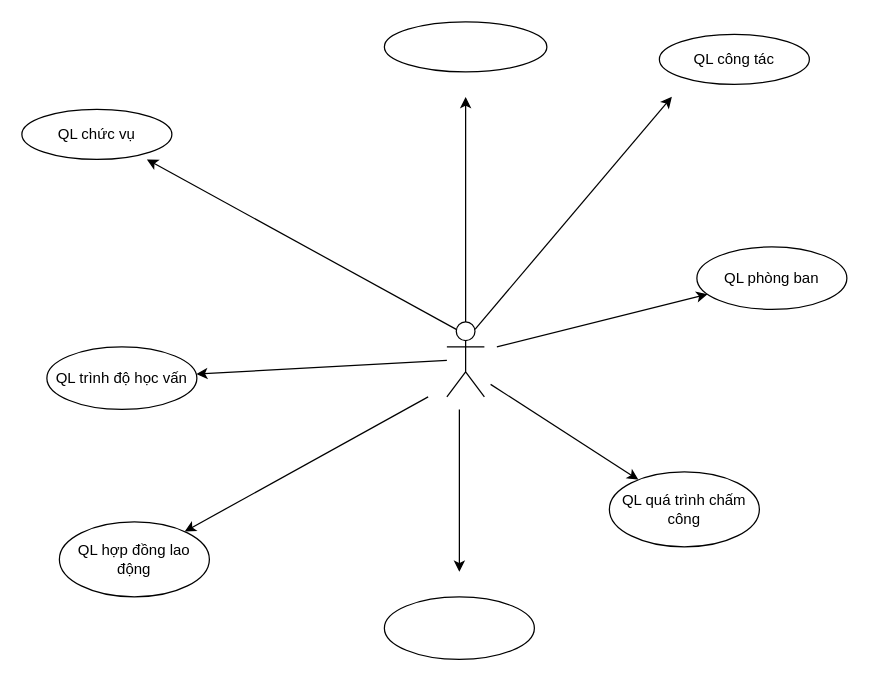
Image size: 869x681. Some labels were removed from this diagram. The shapes that lost their labels are listed below. From the top down, each one's centre as x and y in pixels, then its label:
At pixel 465 46: "QL hồ sơ".
At pixel 465 359: "NV nhân sự".
At pixel 458 627: "Quản lý khen thưởng".
